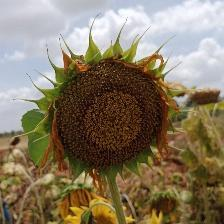sunflower: (22, 12, 202, 193)
